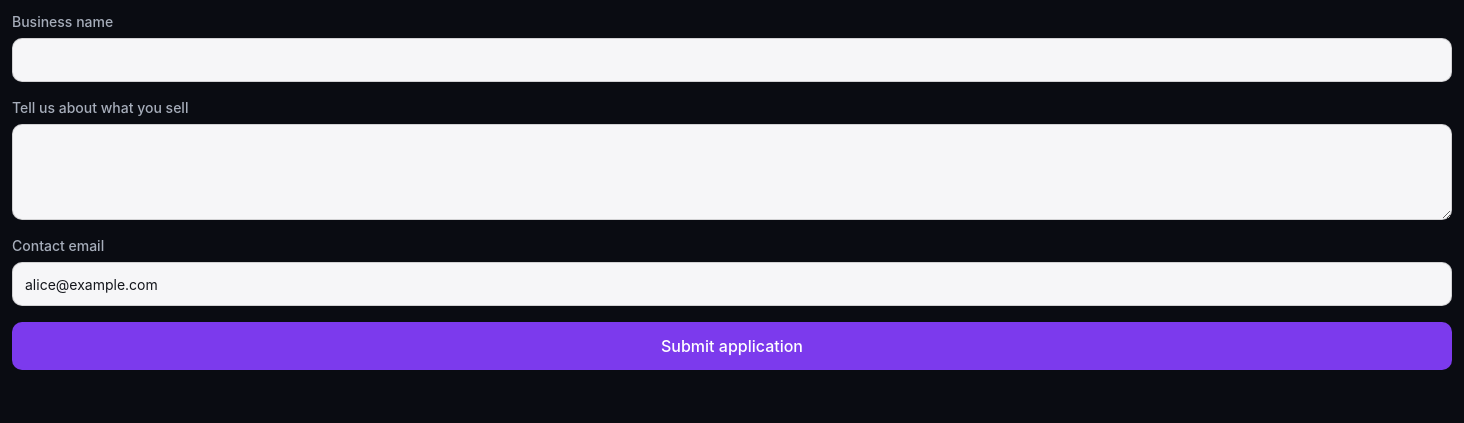
Test: SellerApplicationForm › shows a safe server-error message on failure and preserves entered values
Type "Alice Fine Art" into the field labelled "Business name". click: (732, 60)
box: [12,38,1452,82]
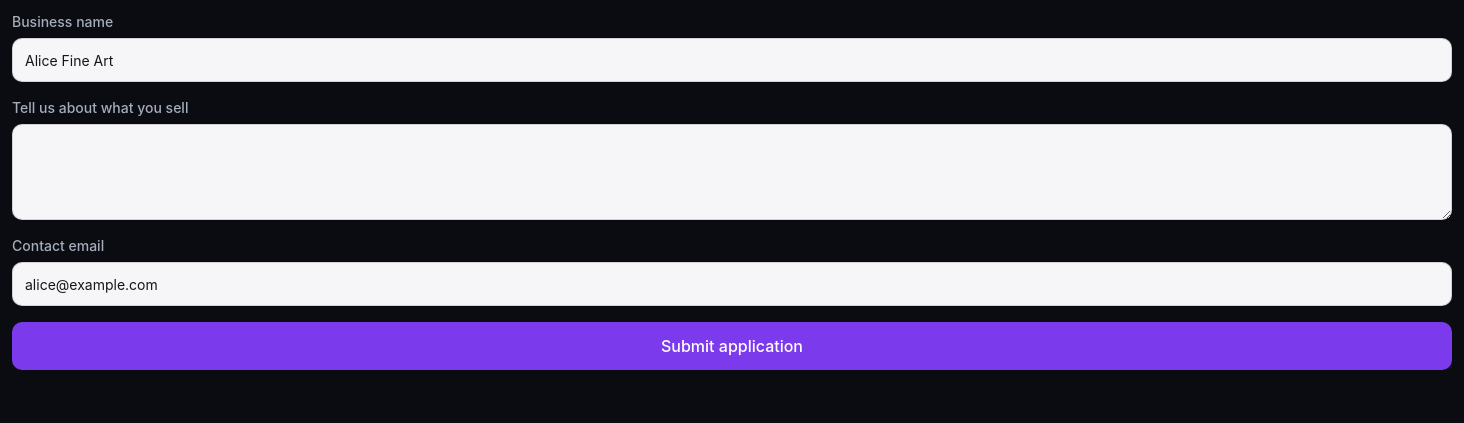
Type "Contemporary oil landscapes." into the text box labelled "Tell us about what you sell". click: (732, 172)
box: [12,124,1452,220]
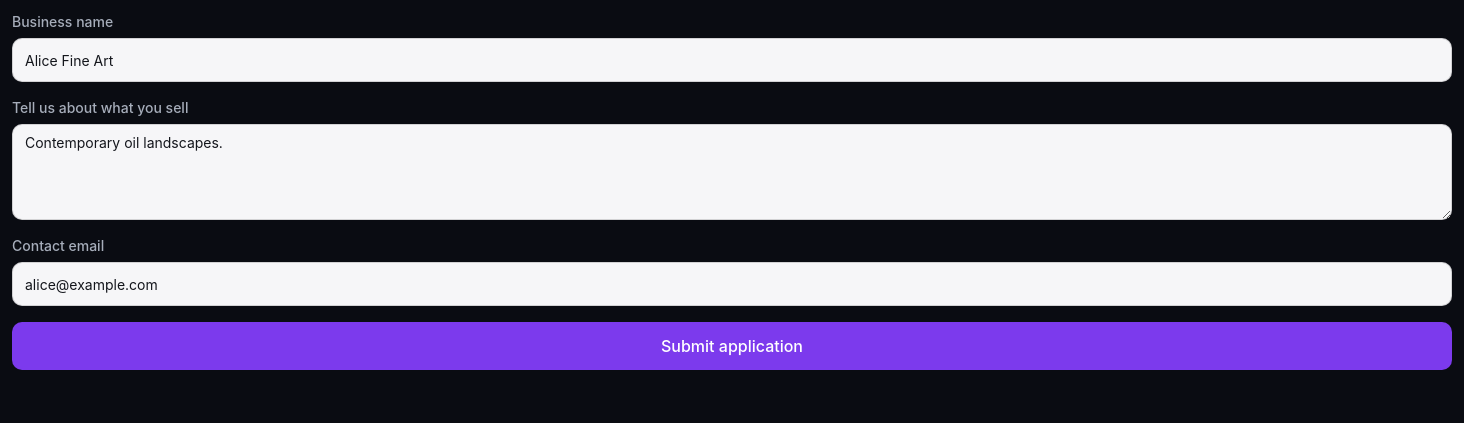
Click the button "Submit application". click: (732, 346)
box: [12,322,1452,370]
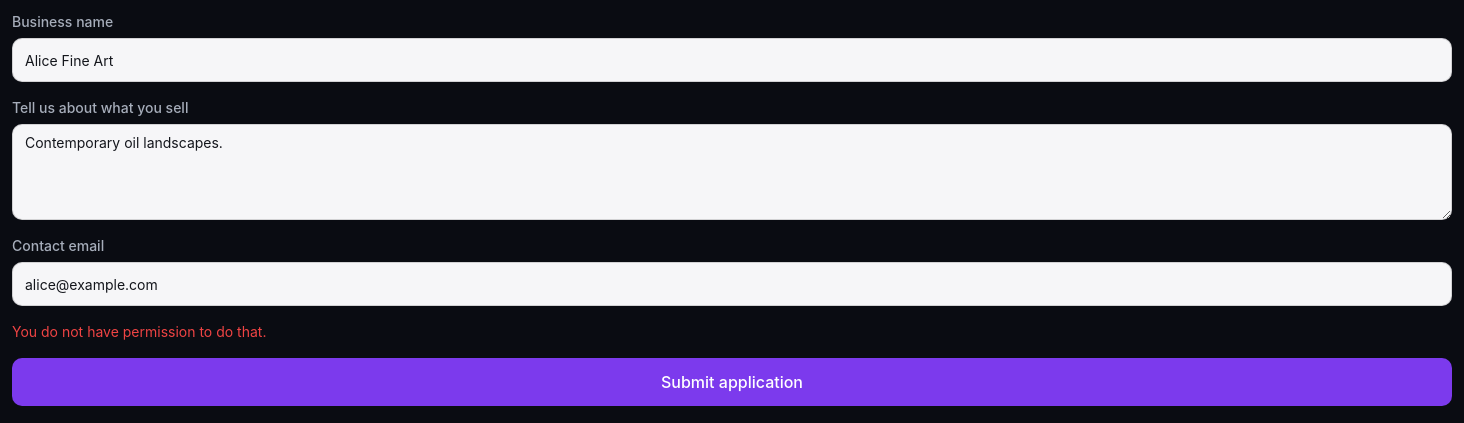
Now the message reads "You do not have permission to do that.", box [12,323,266,340]
